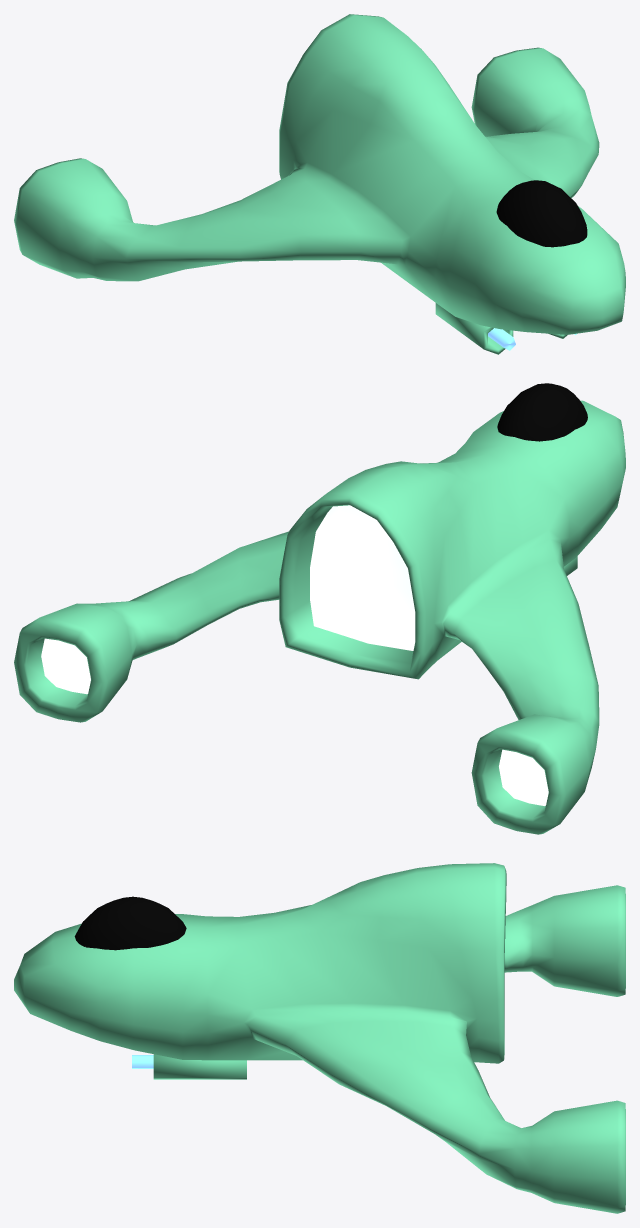
The model's file is Spaceship_shooting_animation.gltf.
3 views of the same model, one above another, from view 1: azimuth 30°, elevation 25°; view 2: azimuth 150°, elevation 25°; view 3: azimuth 270°, elevation 25° (orthographic). The views are drawn at different scales.
Visible parts, largest first — view 1: Cube; view 2: Cube; view 3: Cube.
Boxes of the visible parts, x1,y1,x2,y2 form: Cube: (14, 14, 625, 354); Cube: (14, 383, 625, 834); Cube: (14, 863, 625, 1213).
Bounding box in the file's own units: 5.11 × 2.1 × 5.09.
